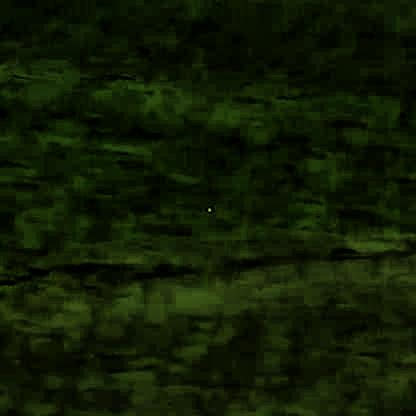golfball: (205, 205, 209, 209)
